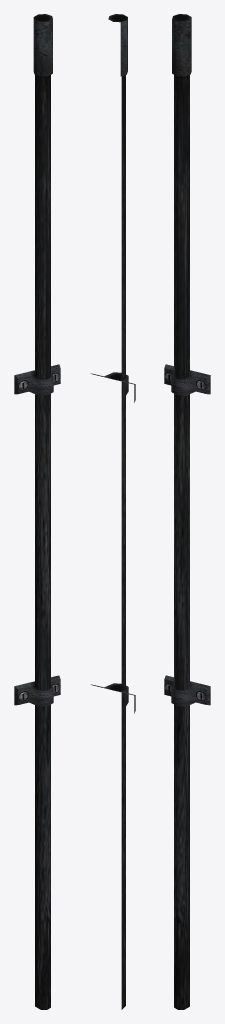
Rendered from bunker_pipe_length.glb.
3 views of the same model, side by side, from view 1: azimuth 30°, elevation 25°; view 2: azimuth 150°, elevation 25°; view 3: azimuth 330°, elevation 25° (orthographic).
Size of the model in its own units: 3.62 by 75.84 by 1.59.
Materials: 1 (1 with a texture image).
